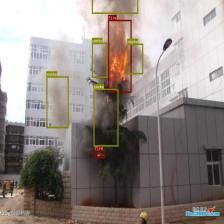fire: (108, 20, 131, 92), (94, 150, 105, 158)
smoke: (93, 88, 118, 146), (46, 76, 68, 128), (92, 0, 138, 14), (92, 42, 107, 78), (127, 43, 143, 74)
